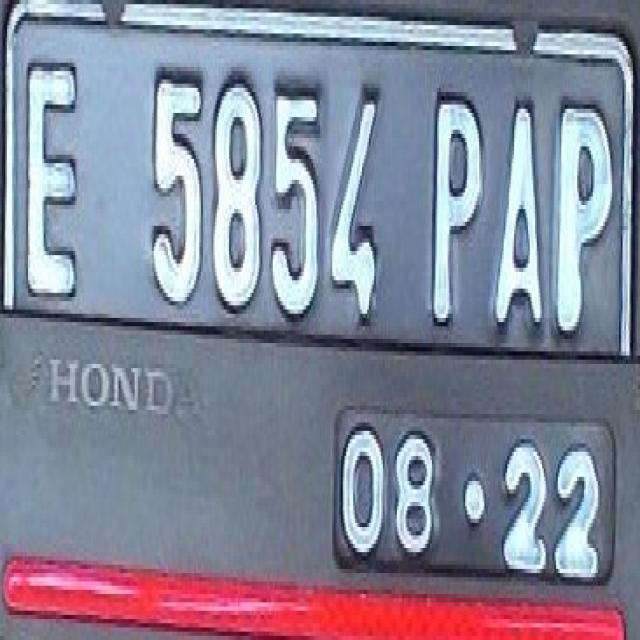plate: (2, 3, 632, 601)
